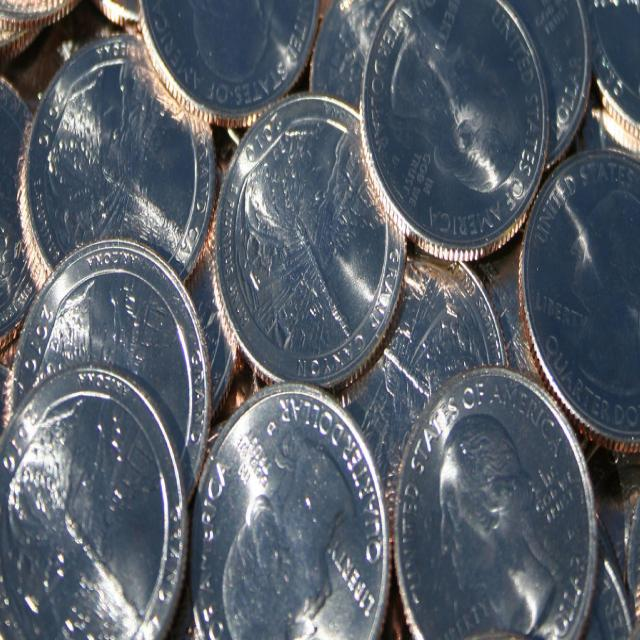Coin: (0, 0, 638, 639)
